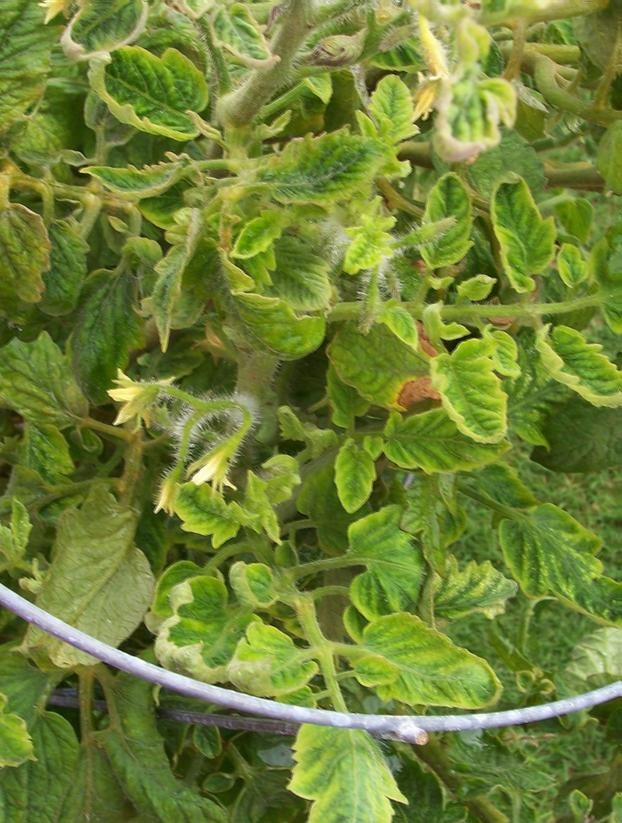Tomato leaf yellow virus: (227, 111, 409, 211), (288, 685, 407, 823), (346, 607, 506, 707), (79, 27, 213, 141), (419, 311, 527, 448), (227, 223, 334, 321), (377, 410, 546, 472), (222, 622, 334, 707), (536, 319, 622, 428), (486, 167, 555, 297), (362, 64, 422, 172), (419, 166, 474, 272), (327, 416, 384, 517), (172, 476, 264, 538), (0, 661, 45, 770)
